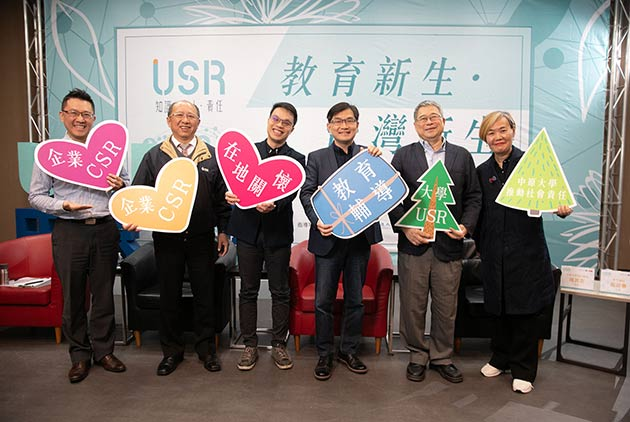people: (39, 91, 131, 380), (135, 99, 227, 373), (466, 110, 553, 394), (380, 101, 467, 383), (305, 105, 377, 375), (234, 102, 303, 371)
